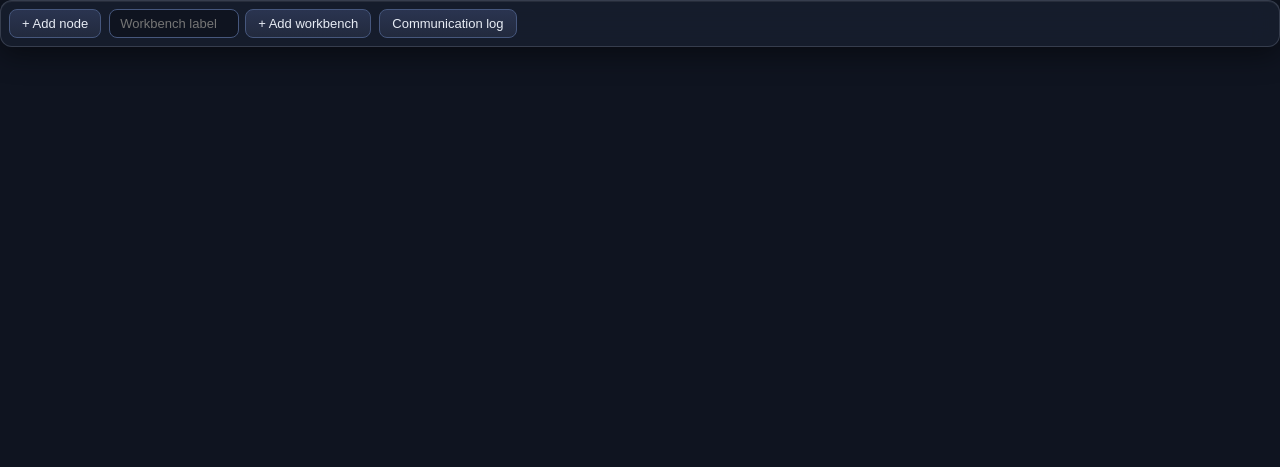
it: add-node pair hint (Issue #251: why EL/CL is a pair) › language switching (Issue #251 requirement 4) › opens the English glossary definition on nested hover in English mode
Hover over the element showing "+ Add node" at (55, 24), box [9,9,101,38]
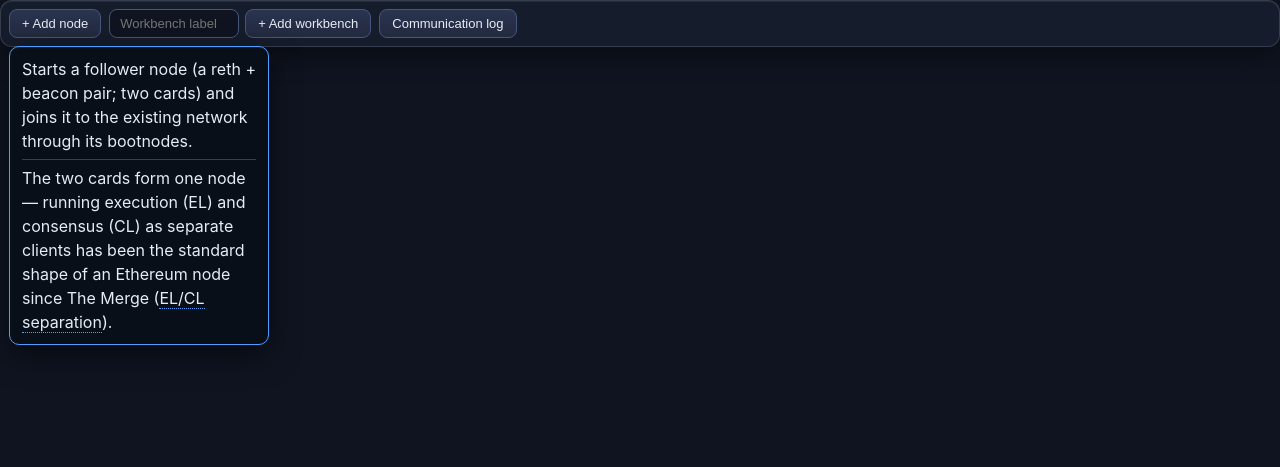
Hover over the button with test id "glossary-term-el-cl-separation" at (182, 298), box [22,288,204,332]
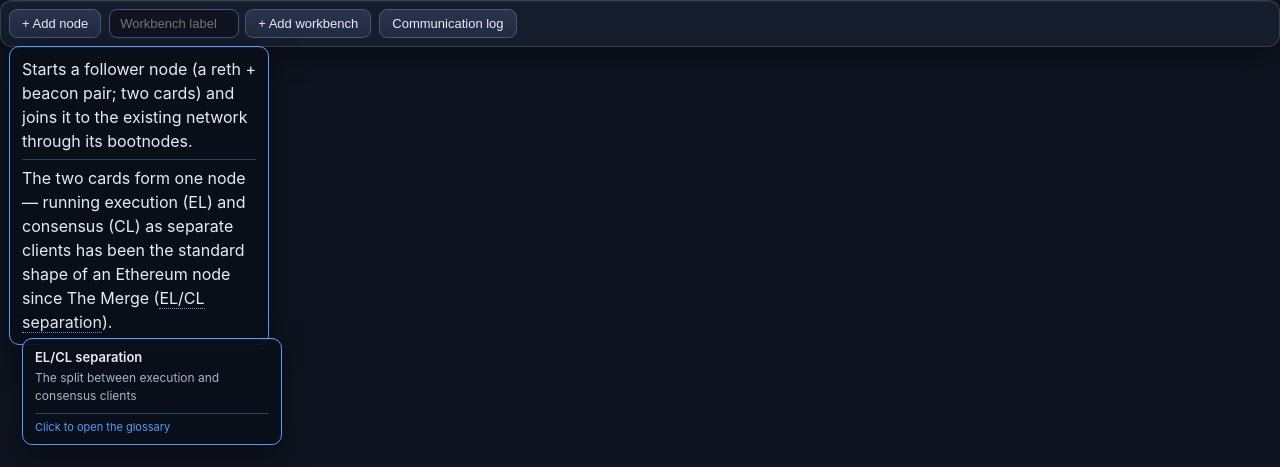
Now the tooltip with test id "glossary-popover-el-cl-separation" shows "The split between execution and consensus clients", box [35,370,219,403]
